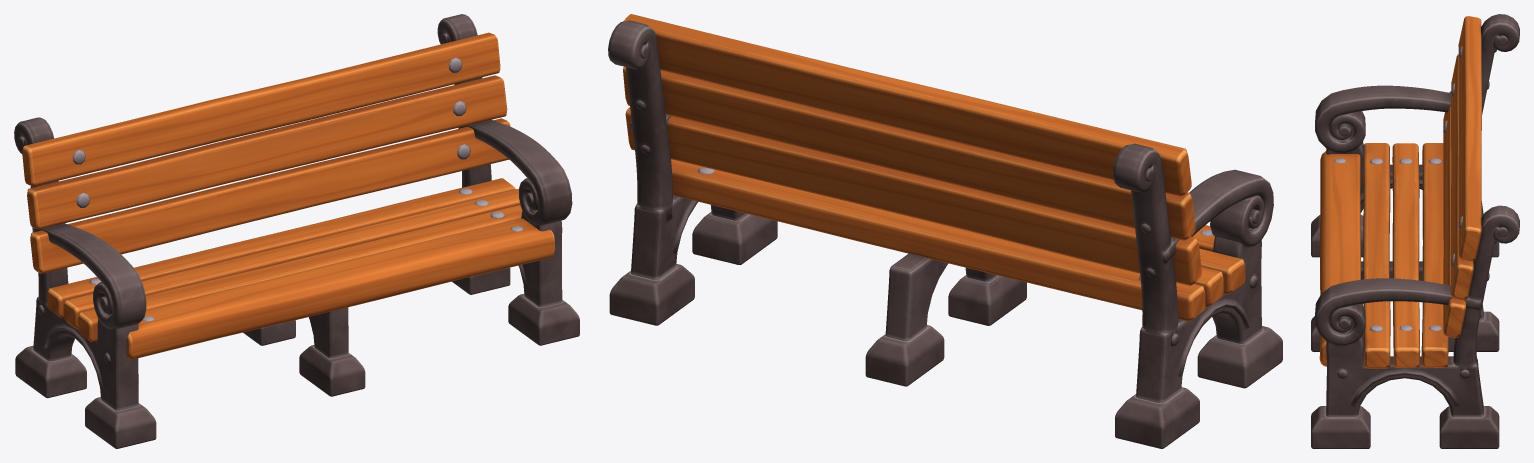
File: bench_park.glb
3 renders of one model, left to right at view 1: azimuth 30°, elevation 25°; view 2: azimuth 150°, elevation 25°; view 3: azimuth 270°, elevation 25°, orthographic. The views are drawn at different scales.
Visible parts, largest first — view 1: model; view 2: model; view 3: model.
Boxes of the visible parts, x1,y1,x2,y2 form: model: (14, 14, 579, 448); model: (608, 14, 1282, 448); model: (1311, 14, 1519, 448).
Size of the model in its own units: 2.02 by 1.01 by 0.8289.
2 materials, 2 textured.
